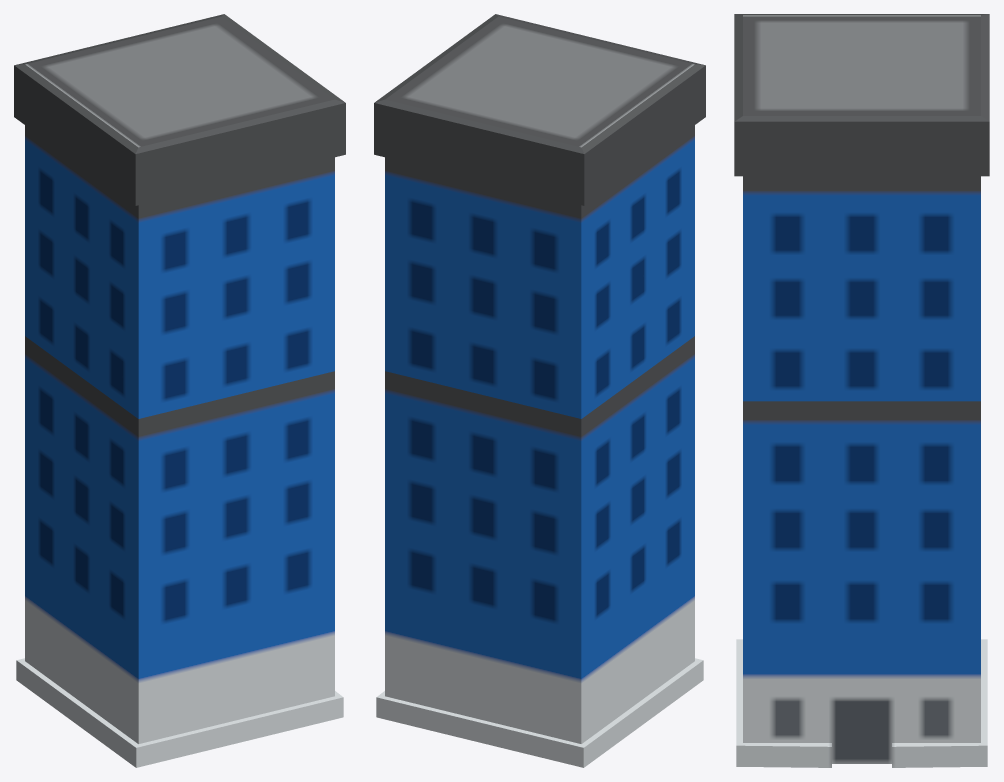
File: building-medium.fbx
3 renders of one model, left to right at view 1: azimuth 30°, elevation 25°; view 2: azimuth 150°, elevation 25°; view 3: azimuth 270°, elevation 25°, orthographic. The views are drawn at different scales.
Visible parts, largest first — view 1: Medium; view 2: Medium; view 3: Medium.
Part boxes in pixels (x1=…): Medium: x1=14, y1=14, x2=345, y2=767; Medium: x1=374, y1=14, x2=705, y2=767; Medium: x1=734, y1=14, x2=989, y2=767.
Bounding box in the file's own units: 215 × 600 × 214.
